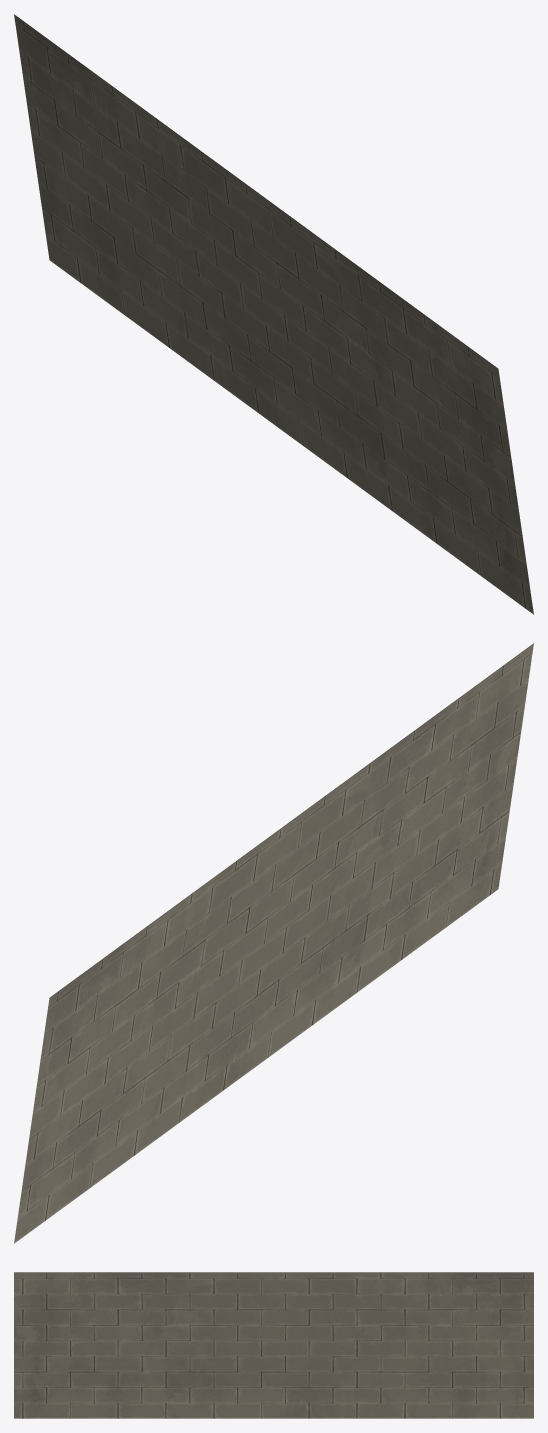
Rendered from bridge_below_PaintableArea.fbx.
3 renders of one model, top to bottom at view 1: azimuth 30°, elevation 25°; view 2: azimuth 150°, elevation 25°; view 3: azimuth 270°, elevation 25°, orthographic. The views are drawn at different scales.
Visible parts, largest first — view 1: Object008; view 2: Object008; view 3: Object008.
Part boxes in pixels (box(x1,y1,x2,y2)): Object008: box(14, 14, 533, 614); Object008: box(14, 643, 533, 1243); Object008: box(14, 1272, 533, 1418).
Bounding box in the file's own units: 281 × 1925 × 6634.
